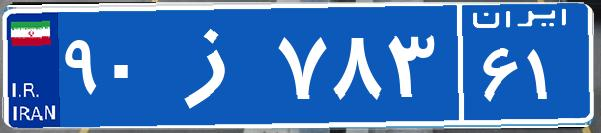0: (110, 28, 158, 105)
1: (525, 38, 570, 115)
3: (385, 28, 445, 110)
6: (475, 38, 525, 113)
7: (273, 28, 330, 110)
8: (330, 28, 385, 110)
9: (57, 26, 110, 107)
ز: (158, 15, 273, 115)
